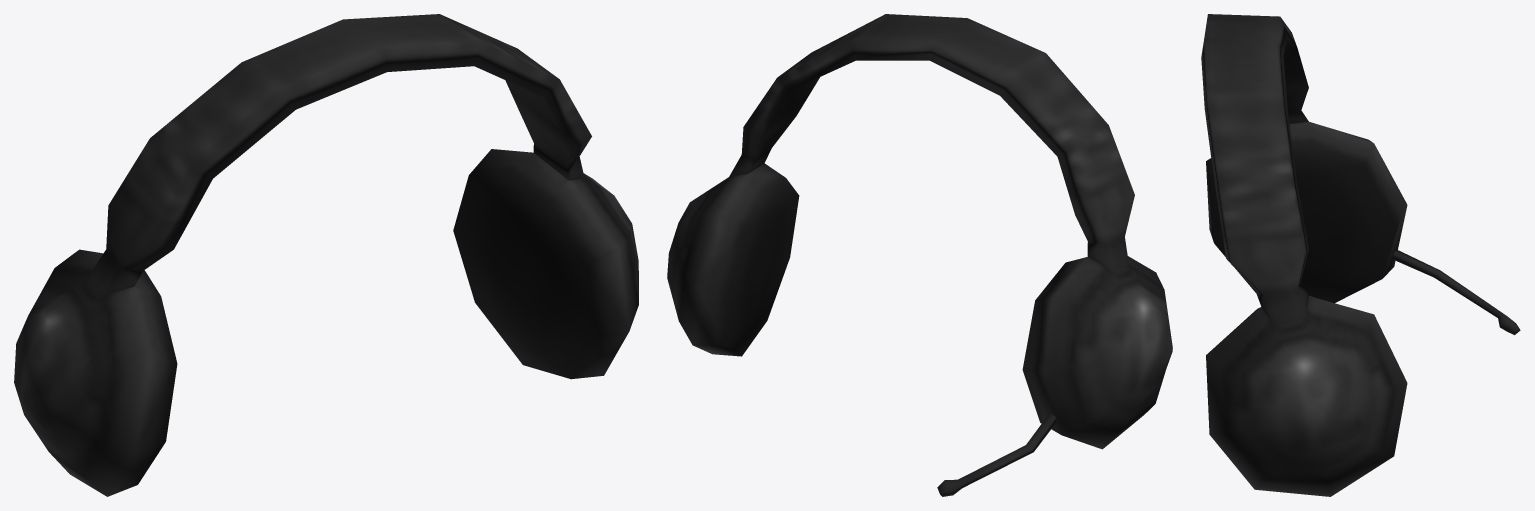
The model's file is headphone3.glb.
The picture shows the model from 3 angles, left to right: view 1: azimuth 30°, elevation 25°; view 2: azimuth 150°, elevation 25°; view 3: azimuth 270°, elevation 25°; orthographic projection. The views are drawn at different scales.
Visible parts, largest first — view 1: headphone3; view 2: headphone3; view 3: headphone3.
Boxes of the visible parts, <box> form: headphone3: <box>14,14,638,496</box>; headphone3: <box>667,14,1172,496</box>; headphone3: <box>1201,14,1520,496</box>.
Bounding box in the file's own units: 0.4218 × 0.29 × 0.2345.
1 material, 1 textured.
